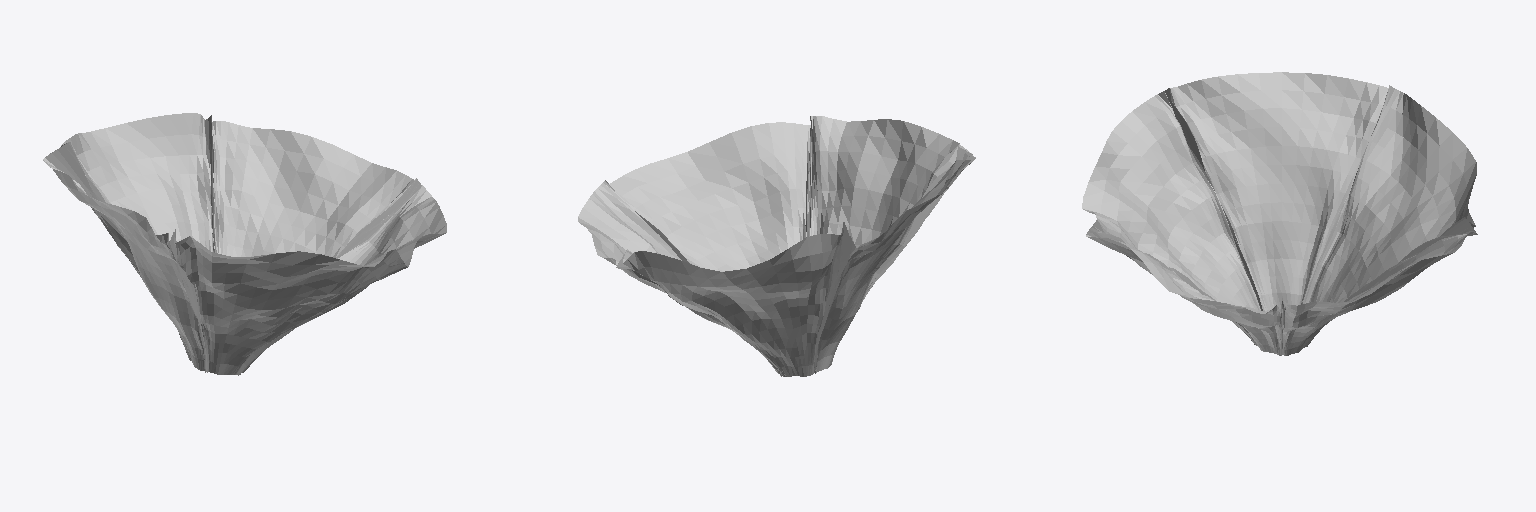
Rendered from flower_single.obj.
The picture shows the model from 3 angles: view 1: azimuth 30°, elevation 25°; view 2: azimuth 150°, elevation 25°; view 3: azimuth 270°, elevation 25°; orthographic projection.
Visible parts, largest first — view 1: Flower.003_Cube.003; view 2: Flower.003_Cube.003; view 3: Flower.003_Cube.003.
Part boxes in pixels (x1,y1,x2,y2): Flower.003_Cube.003: (43,113,446,375); Flower.003_Cube.003: (578,116,975,376); Flower.003_Cube.003: (1082,72,1477,355).
Bounding box in the file's own units: 1.29 × 0.7774 × 1.31.